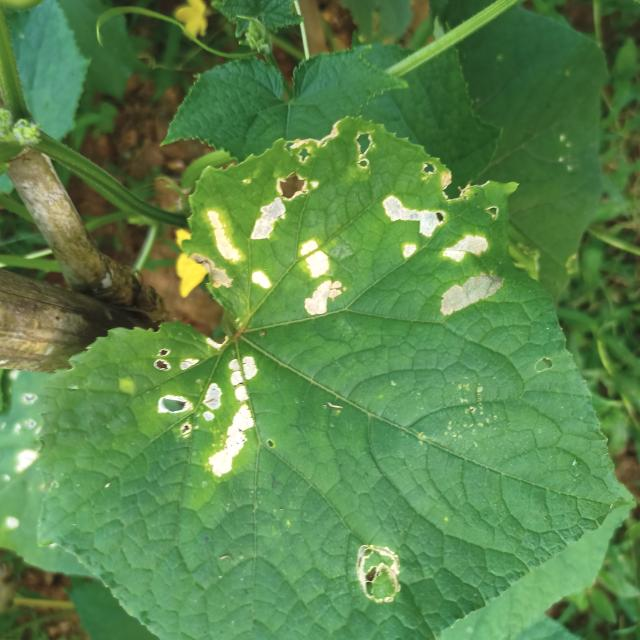disease_cucumber: (146, 332, 277, 482), (190, 182, 287, 302), (440, 229, 505, 321), (294, 237, 349, 322), (378, 191, 438, 260), (273, 165, 318, 204)
